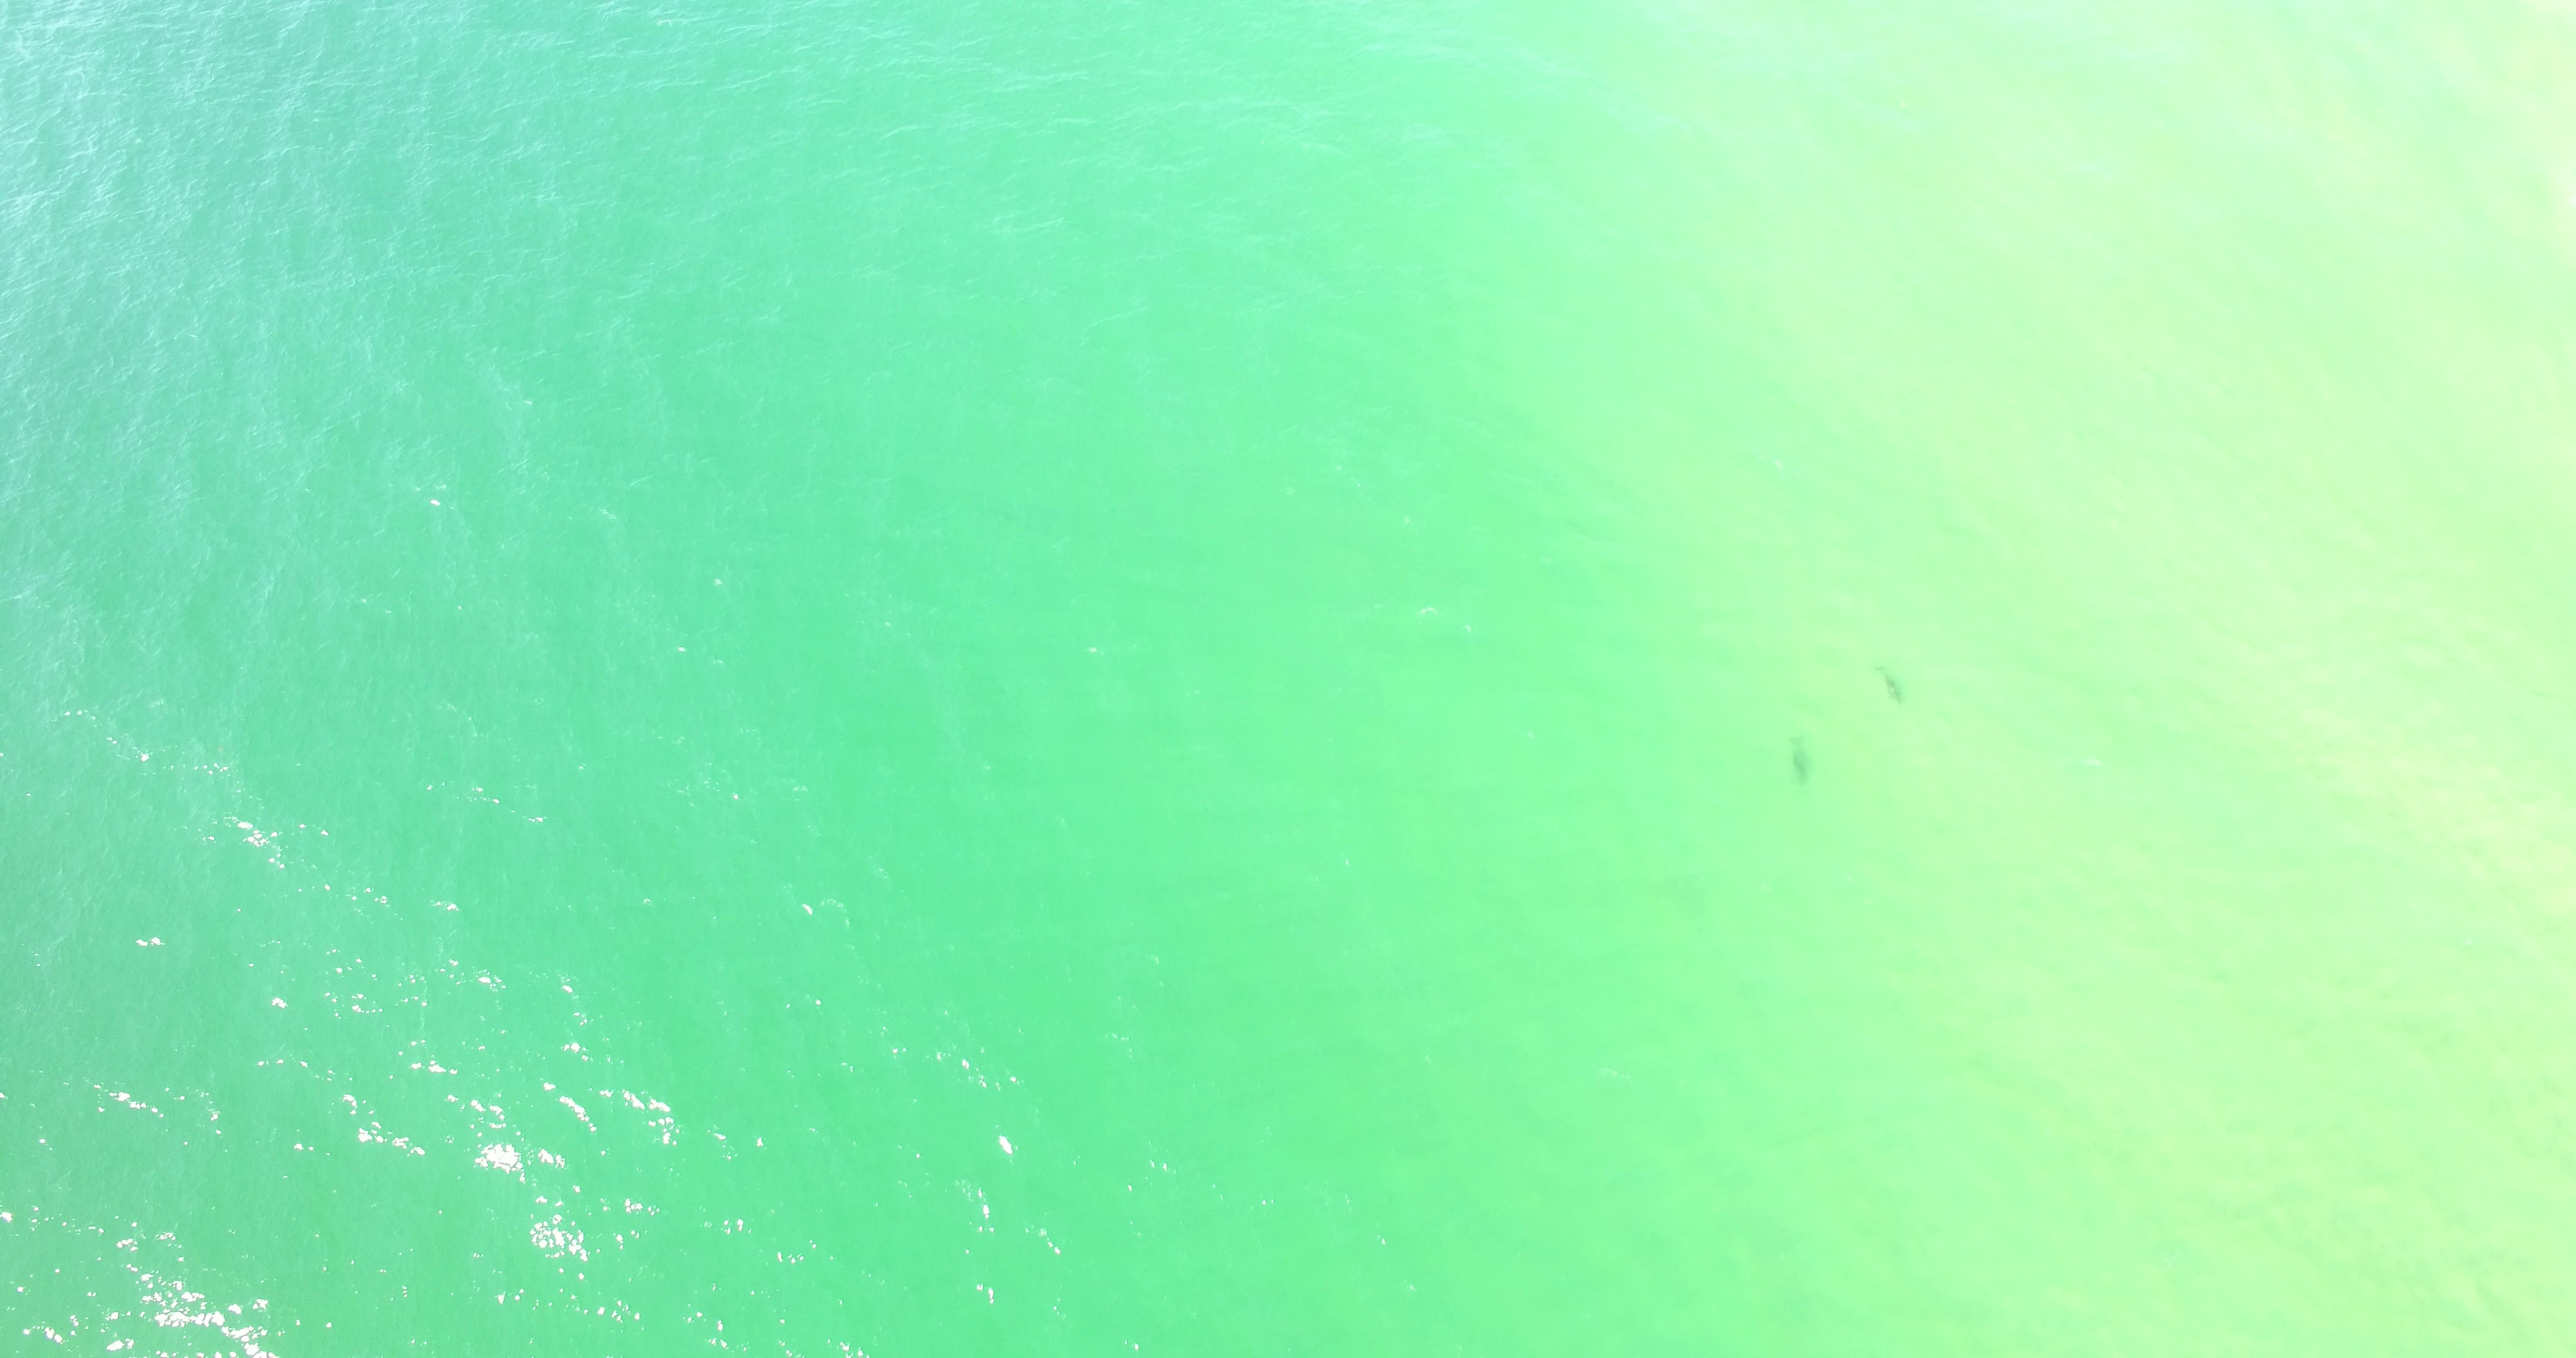dolphin: (1874, 665, 1905, 705), (1789, 734, 1809, 787)
